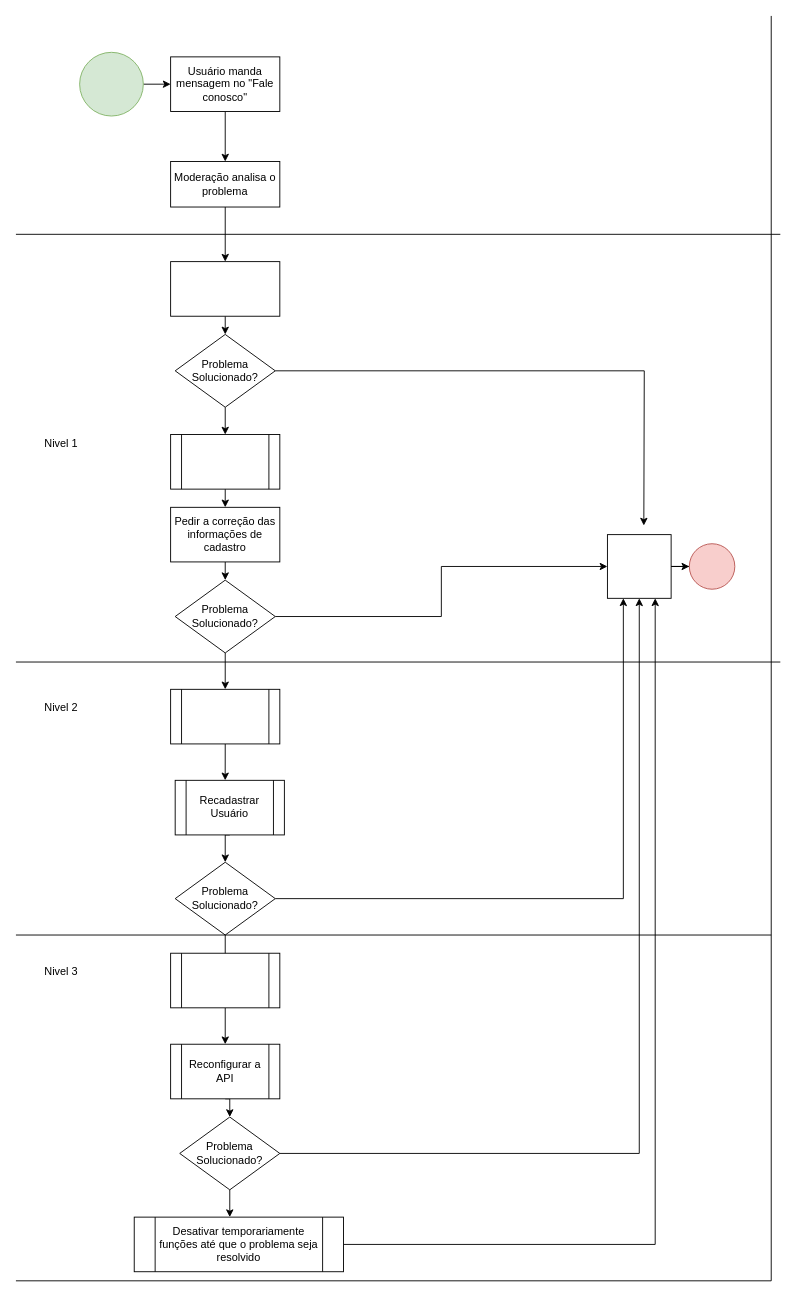
Some shapes in this 797 by 1298 pixel diagram are drawn without their labels. The shapes that lost their labels are listed below. From the top down, each one's centre as x and y in pixels, then its label:
point 225,288: Pedir a atualização do Navegador
point 225,461: Verificar o perfil do Usuário
point 639,566: Fecha chamado
point 225,716: Verificar Banco de Dados
point 225,980: Verificar API
